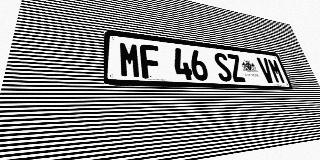4: (171, 47, 194, 80)
6: (188, 49, 210, 81)
F: (139, 44, 162, 79)
M: (119, 41, 142, 78), (267, 58, 286, 84)
S: (213, 52, 234, 82)
V: (256, 57, 276, 83)
Z: (226, 54, 247, 82)
